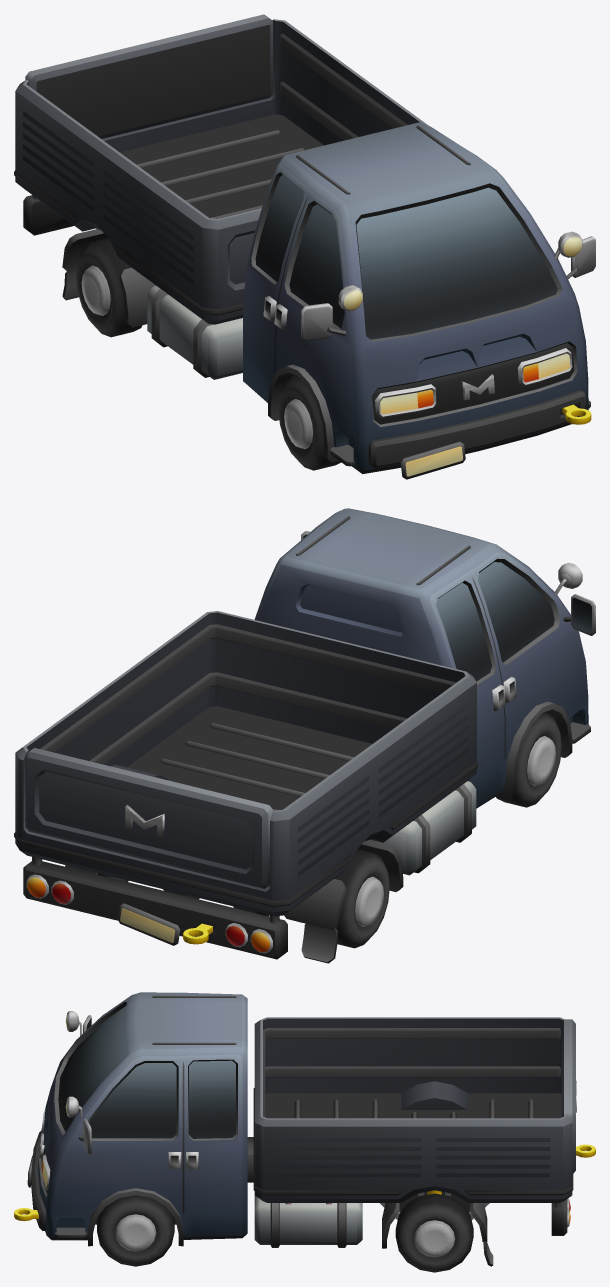
Rendered from Car_10C.fbx.
3 views of the same model, one above another, from view 1: azimuth 30°, elevation 25°; view 2: azimuth 150°, elevation 25°; view 3: azimuth 270°, elevation 25° (orthographic). The views are drawn at different scales.
Visible parts, largest first — view 1: Car_10C, Tailgate_10C, Wheel_10C_R.R, Wheel_10C_F.R; view 2: Car_10C, Tailgate_10C, Wheel_10C_R.R, Wheel_10C_F.R; view 3: Car_10C, Wheel_10C_R.L, Wheel_10C_F.L, Tailgate_10C.
Part boxes in pixels (x1,y1,x2,y2): Car_10C: [14, 19, 595, 479]; Tailgate_10C: [25, 14, 273, 138]; Wheel_10C_R.R: [76, 238, 142, 337]; Wheel_10C_F.R: [278, 375, 341, 470]; Car_10C: [14, 508, 595, 963]; Tailgate_10C: [25, 748, 273, 888]; Wheel_10C_R.R: [334, 849, 389, 948]; Wheel_10C_F.R: [496, 712, 561, 807]; Car_10C: [14, 992, 595, 1266]; Wheel_10C_R.L: [395, 1193, 473, 1272]; Wheel_10C_F.L: [97, 1195, 174, 1266]; Tailgate_10C: [561, 1019, 576, 1174].
Bounding box in the file's own units: 279 × 230 × 598.
